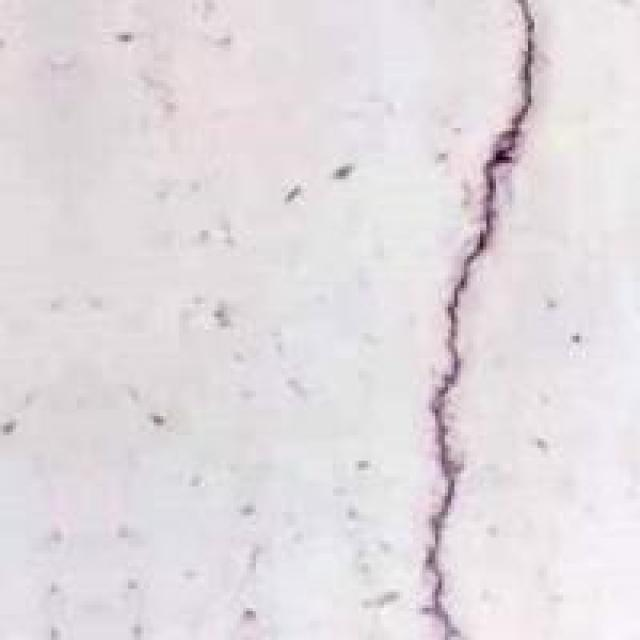crack: (310, 0, 624, 637)
